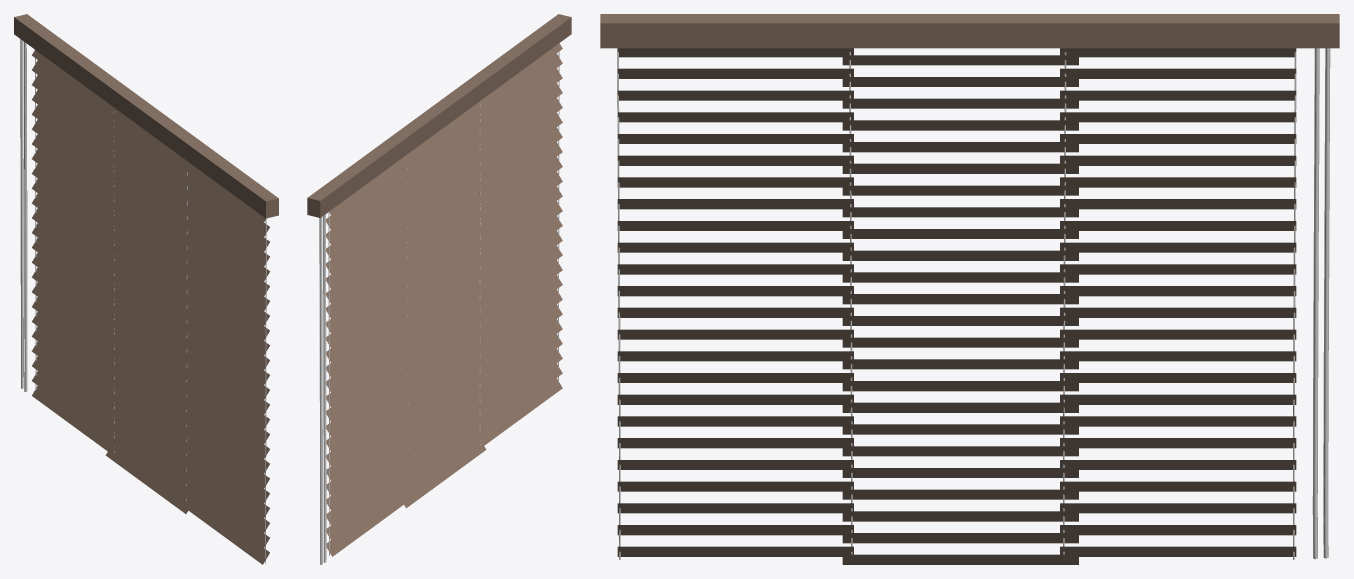
File: stores.fbx
3 views of the same model, side by side, from view 1: azimuth 30°, elevation 25°; view 2: azimuth 150°, elevation 25°; view 3: azimuth 270°, elevation 25° (orthographic). The views are drawn at different scales.
Visible parts, largest first — view 1: Cube.006; view 2: Cube.006; view 3: Cube.006.
Boxes of the visible parts, box(x1,y1,x2,y2) form: Cube.006: box(14, 14, 278, 564); Cube.006: box(307, 14, 571, 564); Cube.006: box(600, 14, 1339, 564).
Size of the model in its own units: 5.36 by 148 by 180.
